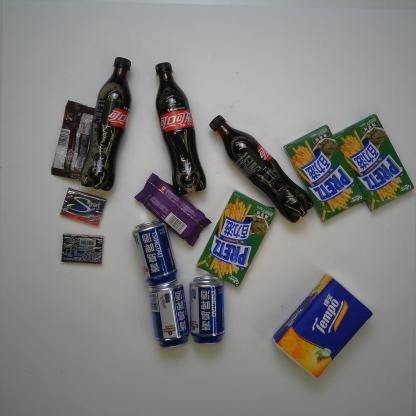Alcohol: (132, 218, 179, 288), (145, 280, 190, 350), (188, 275, 226, 346)
Chocolate: (50, 98, 93, 181)
Dessert: (333, 110, 416, 214), (282, 122, 366, 224), (195, 188, 276, 289), (132, 171, 212, 249)
Drink: (207, 113, 315, 224), (79, 55, 134, 192), (154, 59, 208, 195)
Gum: (57, 187, 108, 229), (60, 230, 106, 266)
Tissue: (271, 270, 375, 380)
